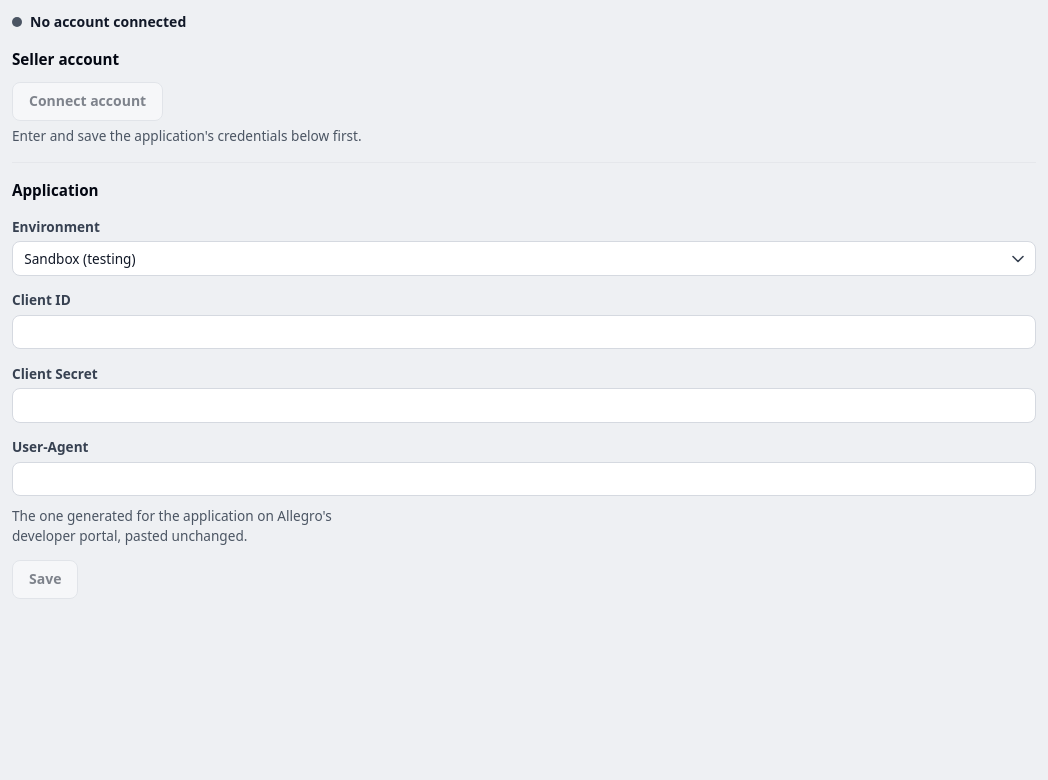
AllegroSettings › saves the application's credentials, secret included, and clears the secret field
Check: the text "No account connected" is shown, box [30, 12, 186, 32]
Step 1. Type "the-app" into the field labelled "Client ID" → [524, 332], box [12, 315, 1036, 349]
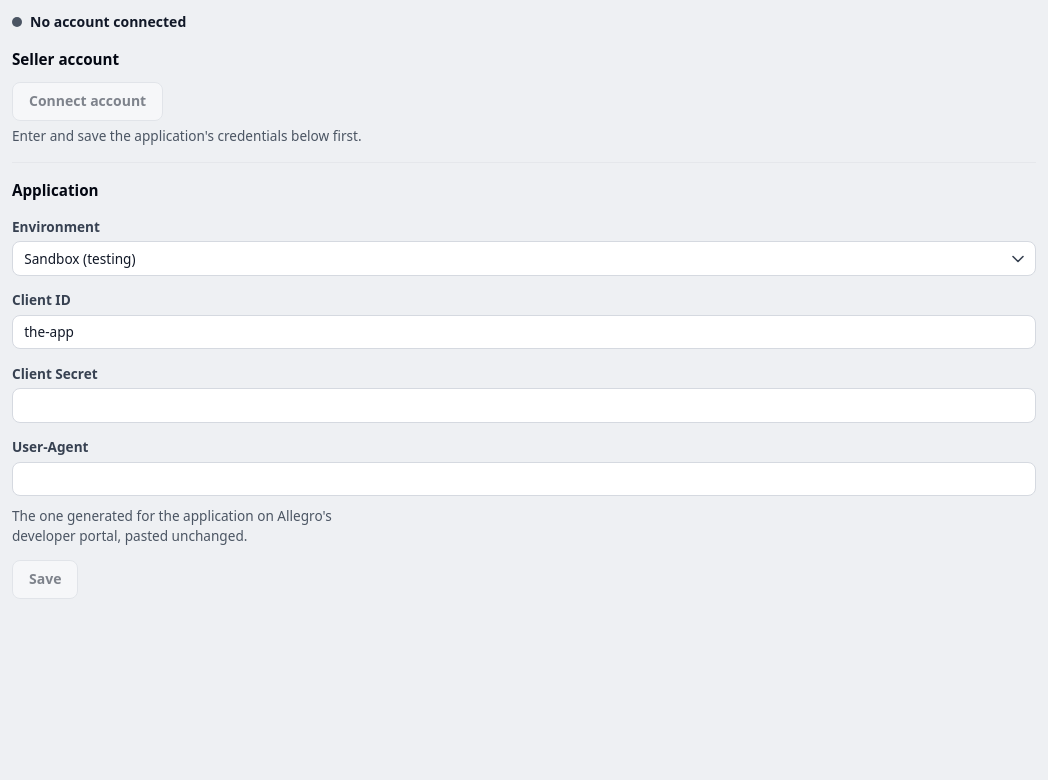
Step 2. Type "s3cret" into the password field labelled "Client Secret" → [524, 405], box [12, 388, 1036, 423]
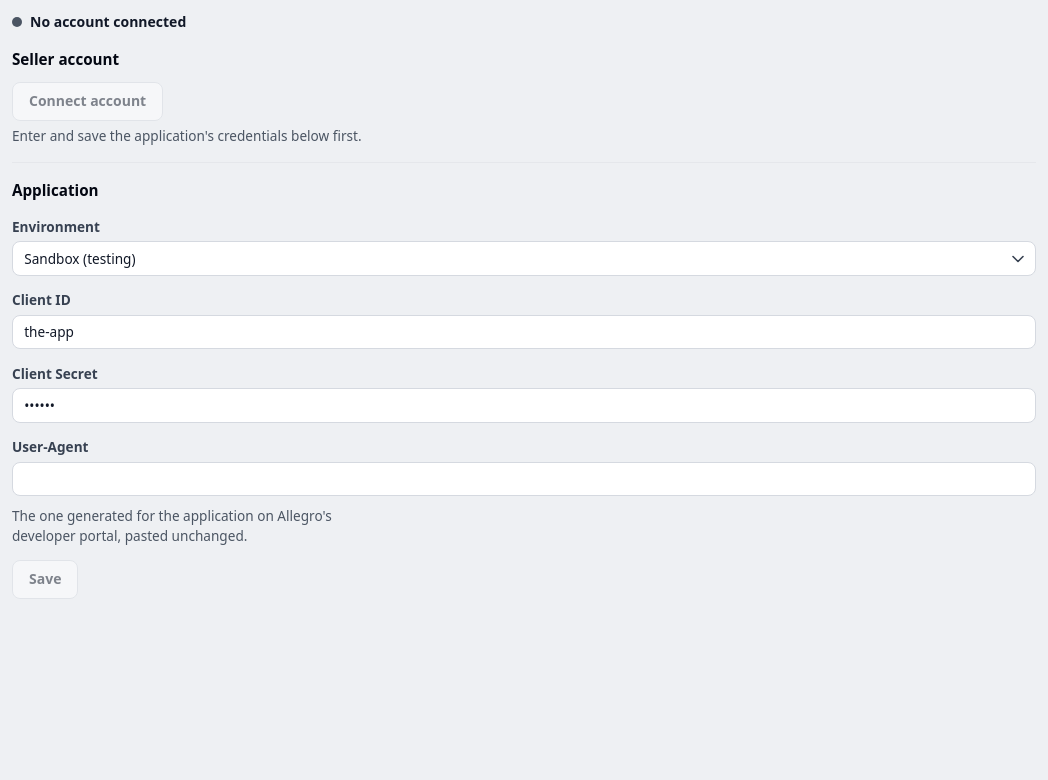
Step 3. Type "ua/1" into the field labelled "User-Agent" → [524, 479], box [12, 462, 1036, 496]
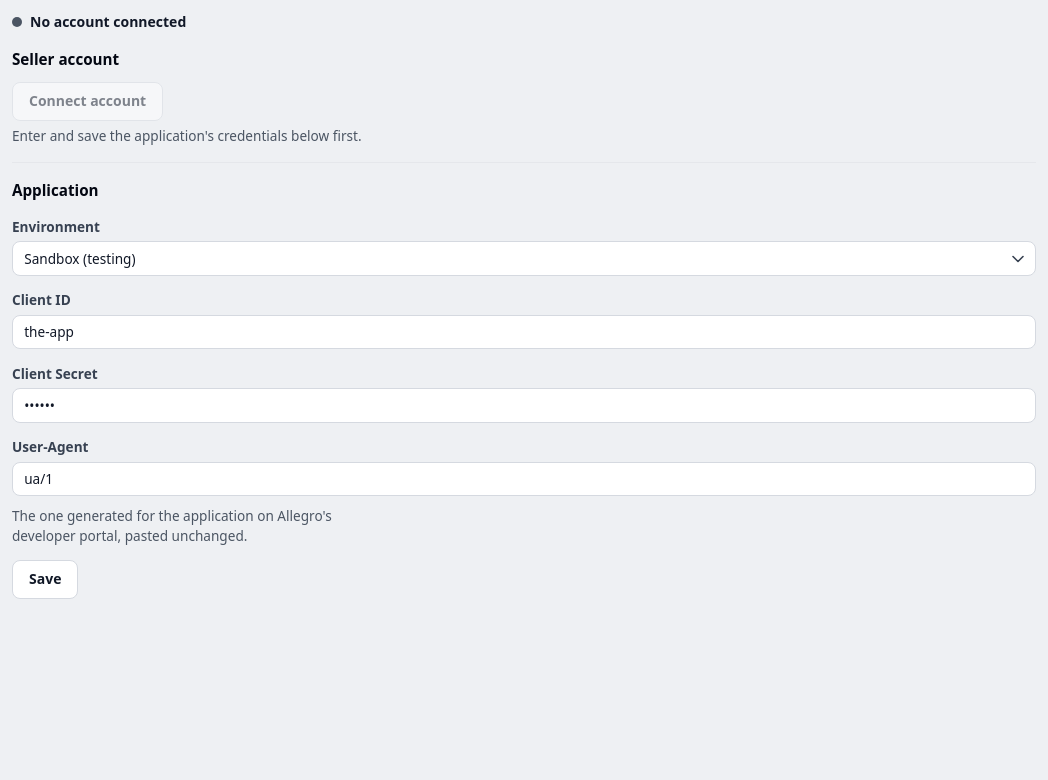
Step 4. Click the button "Save" → [45, 579], box [12, 560, 78, 599]
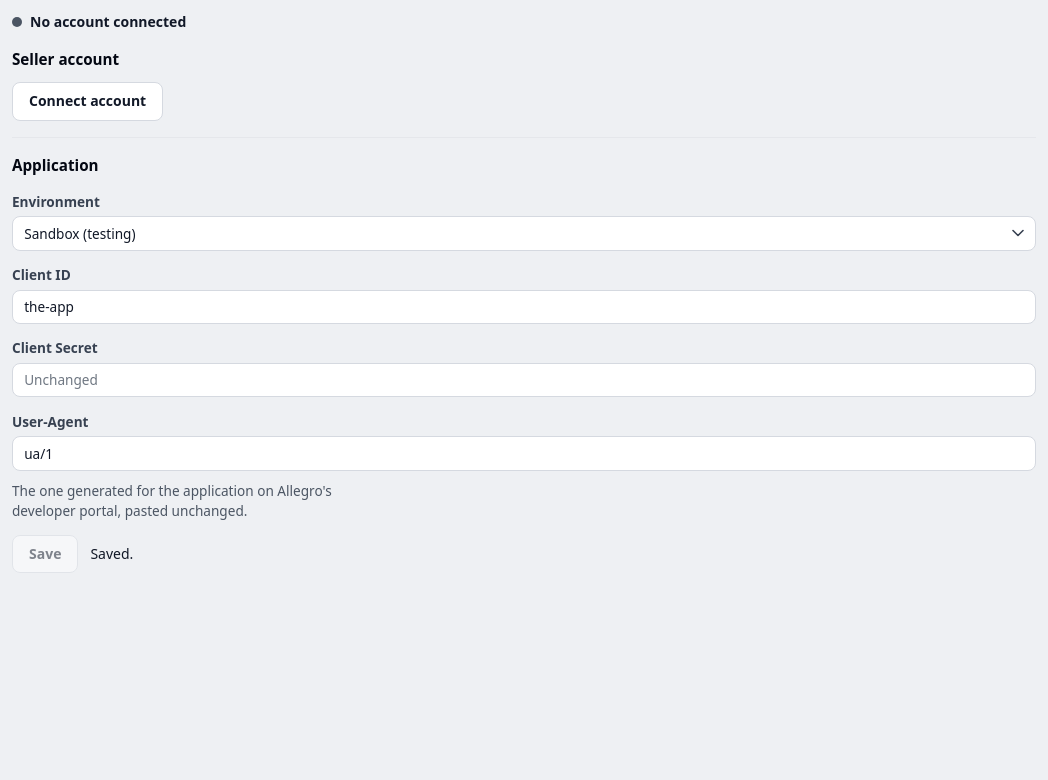
Check: the text "Saved." is shown, box [90, 544, 133, 564]
Check: the password field labelled "Client Secret" is empty, box [12, 363, 1036, 397]
